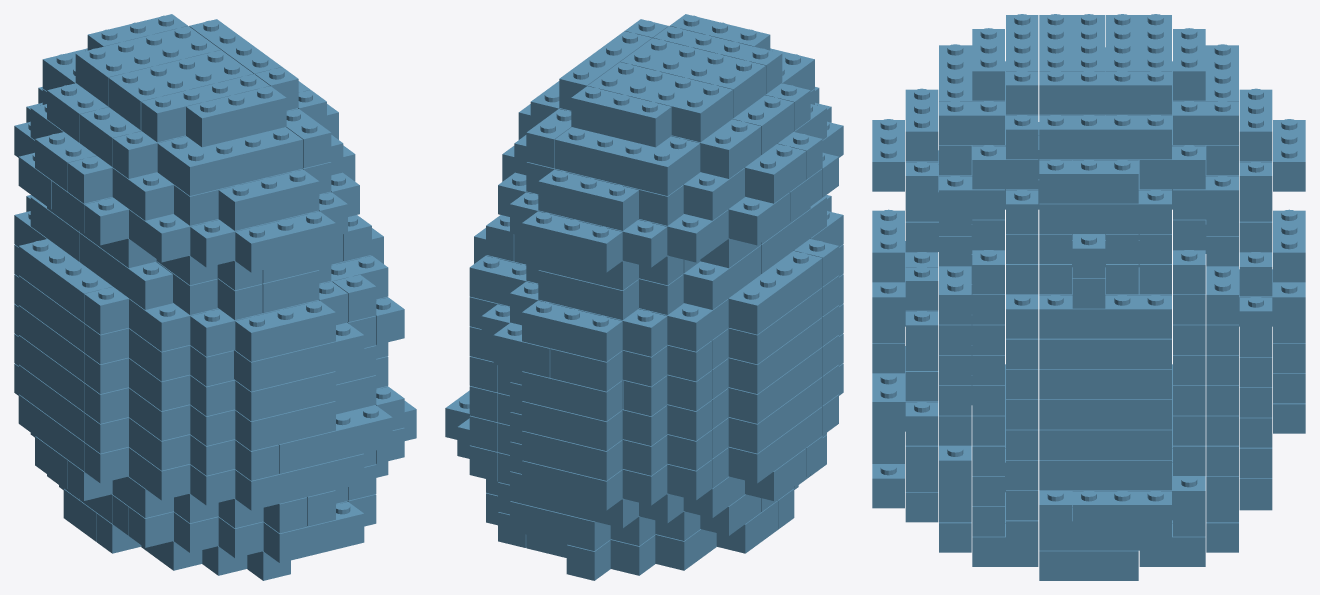
File: 239_tower_L4.glb
The picture shows the model from 3 angles, left to right: view 1: azimuth 30°, elevation 25°; view 2: azimuth 150°, elevation 25°; view 3: azimuth 270°, elevation 25°; orthographic projection.
Bounding box in the file's own units: 10.98 × 15.13 × 12.98.
